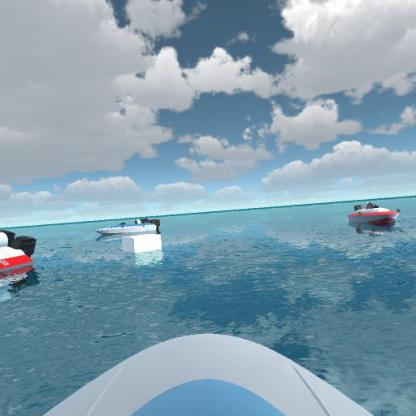usv1: (91, 214, 165, 244)
usv3: (0, 221, 41, 286), (344, 197, 404, 232)
